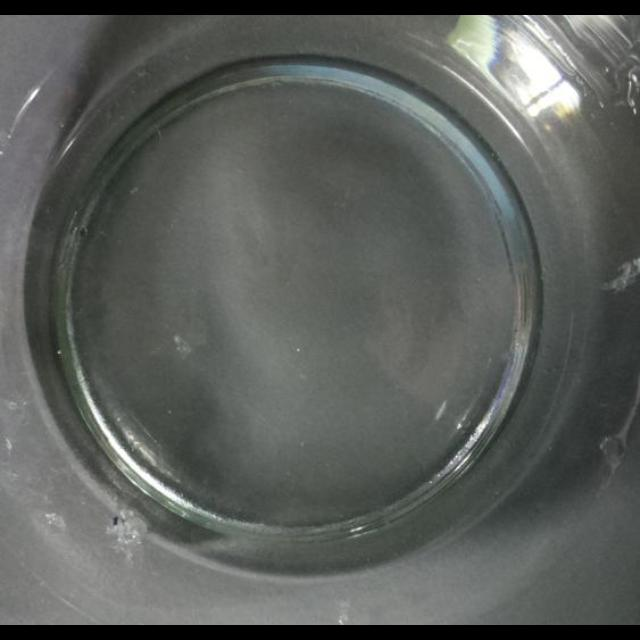Fibre: (108, 510, 148, 552), (602, 252, 640, 292), (172, 334, 194, 358), (4, 436, 14, 452)
microbeads: (42, 510, 66, 532)
